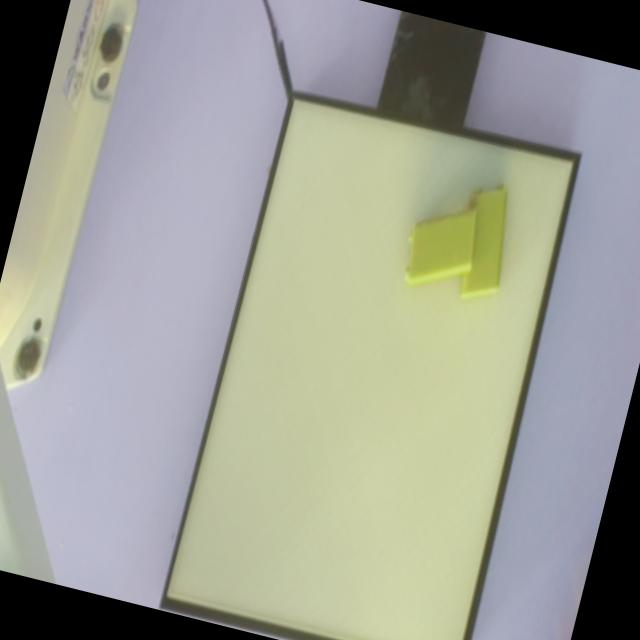bateria: (404, 206, 477, 286)
mesa: (159, 89, 582, 640)
